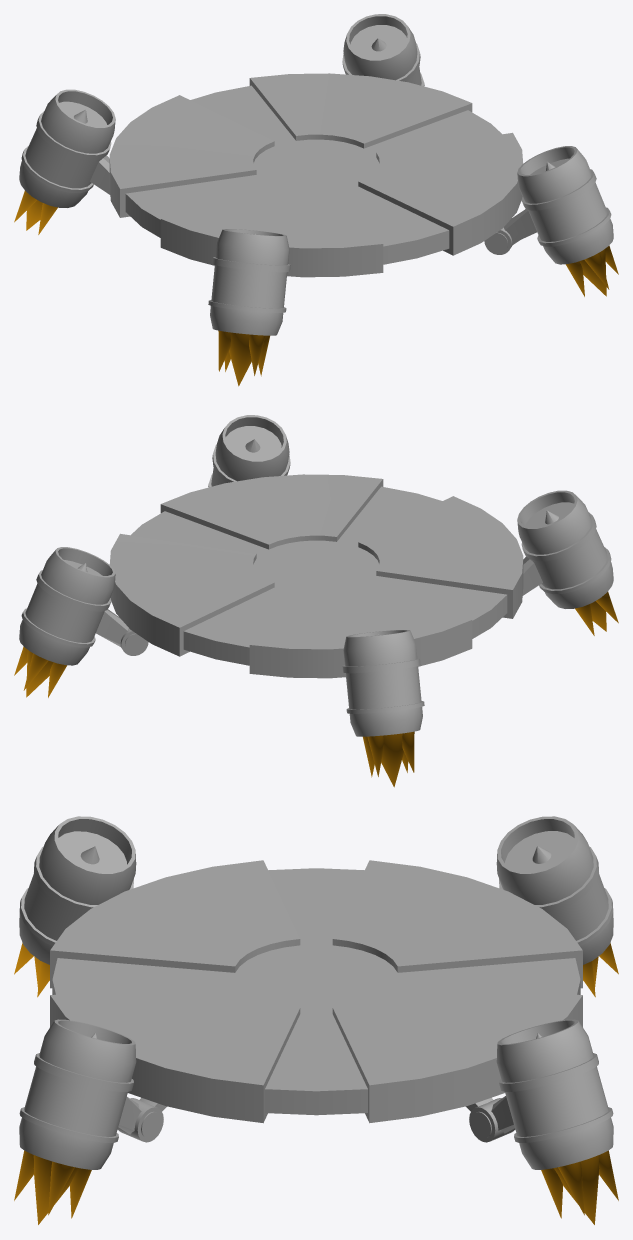
Rendered from FallingPlatform.fbx.
The picture shows the model from 3 angles, top to bottom: view 1: azimuth 30°, elevation 25°; view 2: azimuth 150°, elevation 25°; view 3: azimuth 270°, elevation 25°; orthographic projection. The views are drawn at different scales.
Parts seen in each view (by area): view 1: pCylinder8; view 2: pCylinder8; view 3: pCylinder8.
Boxes of the visible parts, x1,y1,x2,y2 form: pCylinder8: [14, 14, 618, 386]; pCylinder8: [14, 415, 618, 787]; pCylinder8: [14, 816, 618, 1224].
Size of the model in its own units: 451 by 151 by 451.
